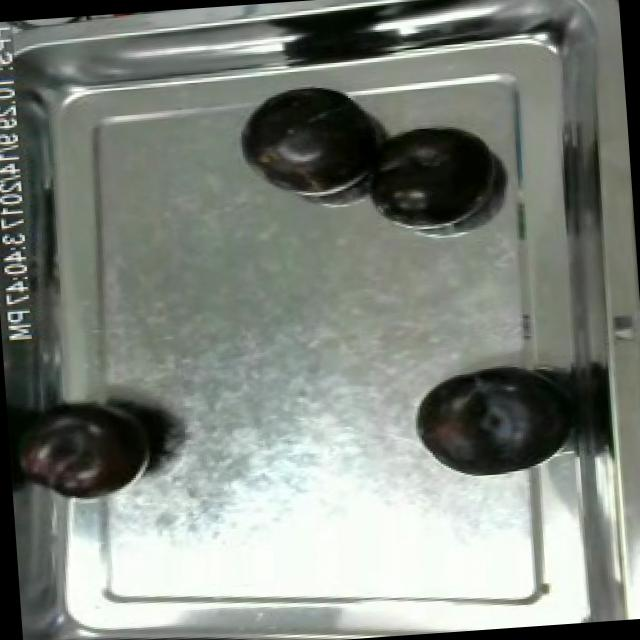Fruit: (403, 355, 572, 488), (5, 392, 166, 512), (234, 80, 386, 202), (357, 121, 498, 232)
